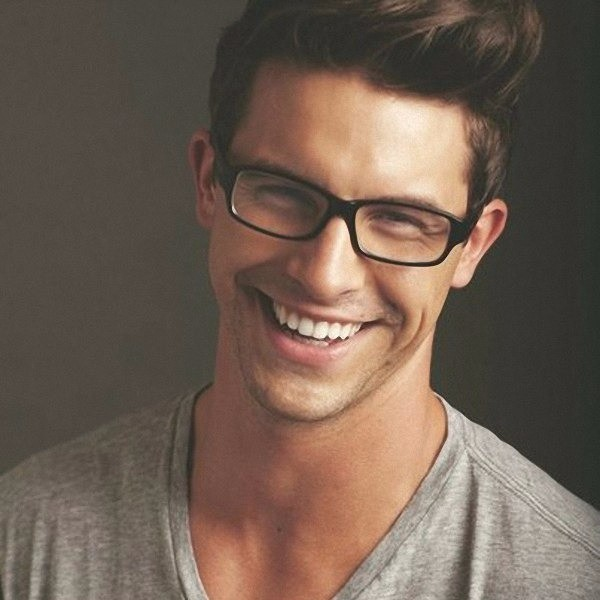glasses: (208, 150, 479, 274)
